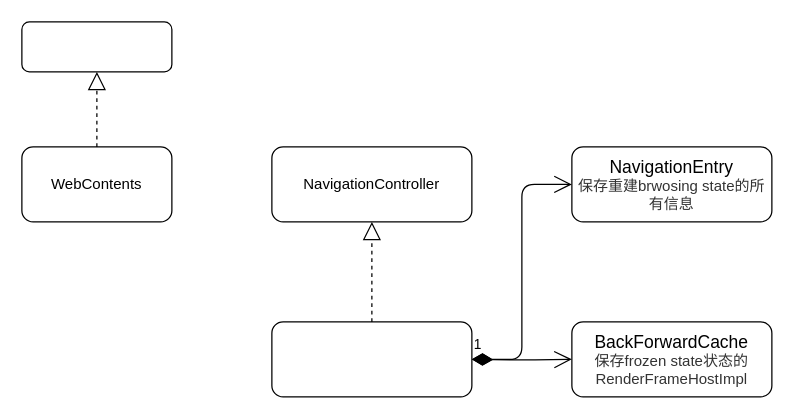
The diagram is 794 pixels wide and 419 high, and some of its shapes have lost their labels. The shapes that lost their labels are listed below. From the top down, each one's centre as x and y in pixels, then its label:
At pixel 96 46: "PageNavigator OpenURL()".
At pixel 371 359: "NavigationControllerImpl".
